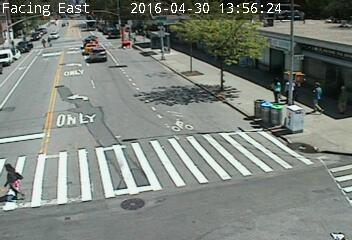neg: (75, 100, 95, 127), (161, 178, 180, 204), (184, 41, 203, 66), (293, 166, 312, 190), (193, 120, 210, 143), (137, 56, 146, 68)
pos: (2, 158, 31, 197), (326, 85, 350, 117), (306, 82, 330, 113), (265, 75, 288, 105), (39, 37, 49, 50), (47, 36, 56, 47)
